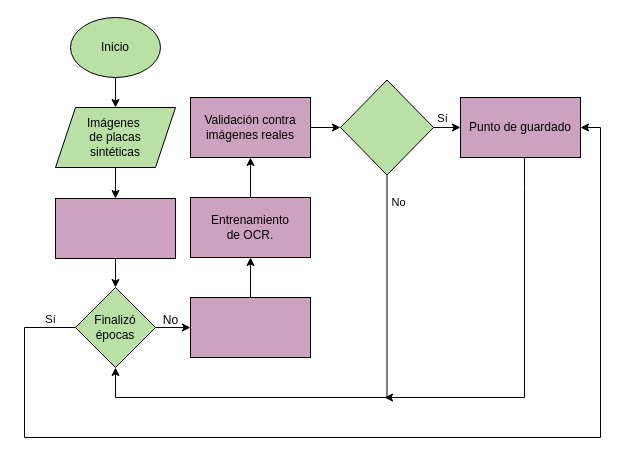
Image size: 626x463. Some labels were removed from this diagram. The shapes that lost their labels are listed below. From the top down, each one's centre as x and y in pixels, then its label:
the point at 387,127: Precisión mayor al anterior
the point at 115,228: Selección de hiperparámetros
the point at 250,327: Aumentado de datos
